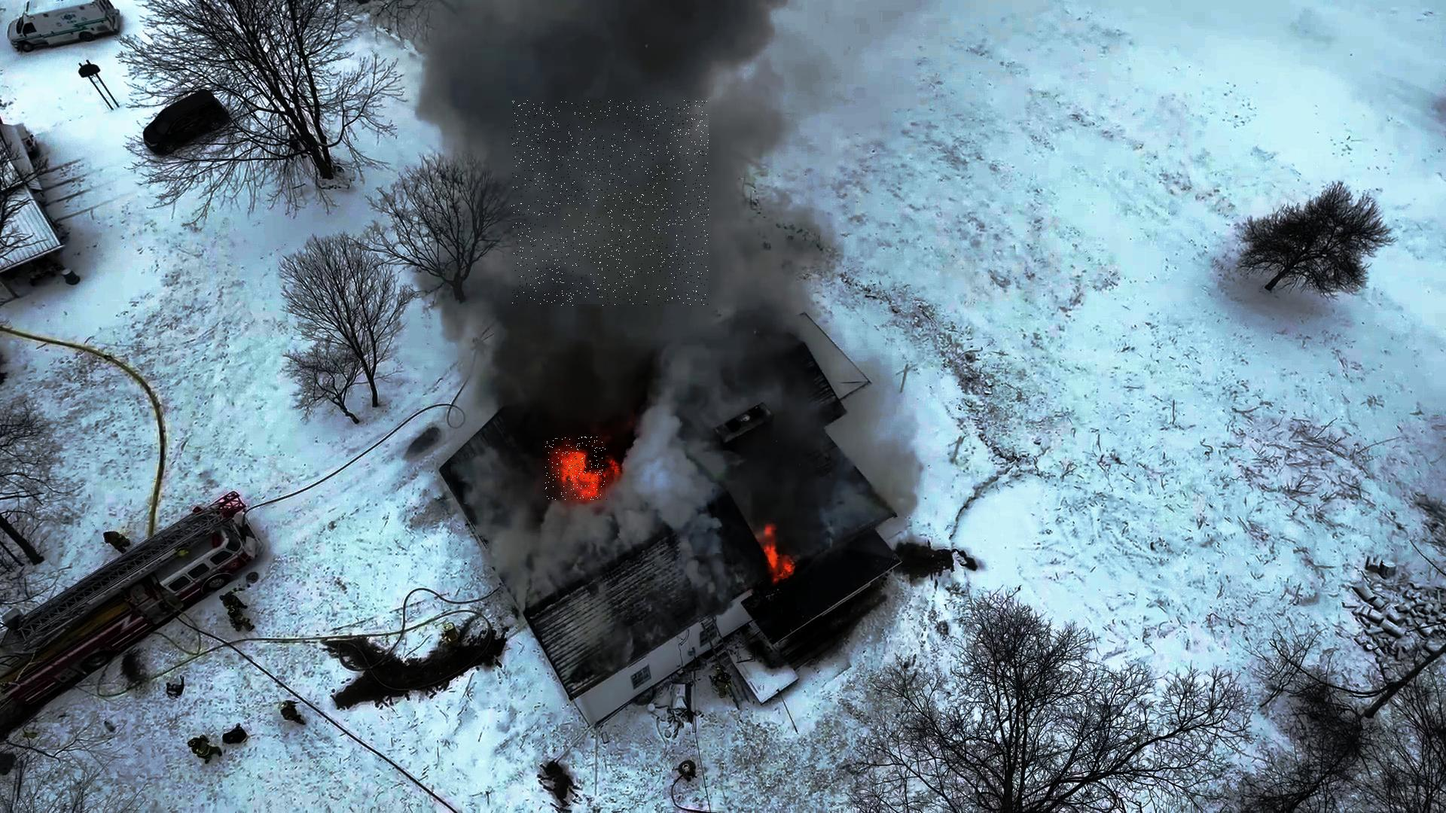fire: (545, 437, 608, 500)
smoke: (511, 101, 709, 306)
